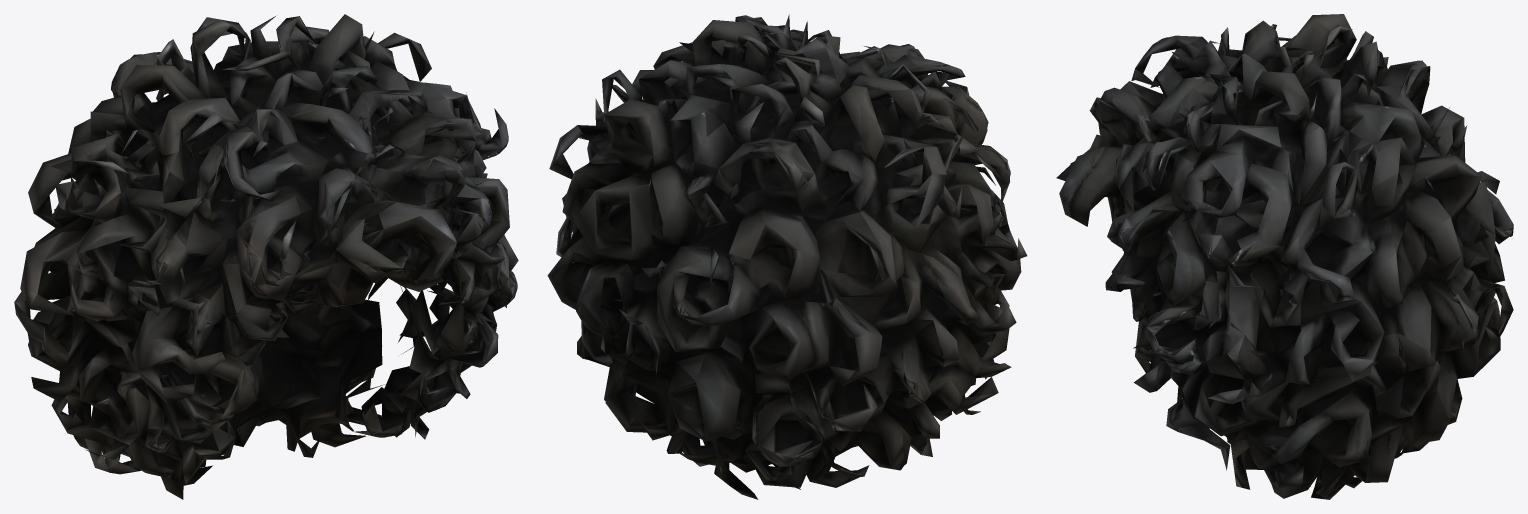
Rendered from pelo_afro.glb.
The picture shows the model from 3 angles, left to right: view 1: azimuth 30°, elevation 25°; view 2: azimuth 150°, elevation 25°; view 3: azimuth 270°, elevation 25°; orthographic projection. The views are drawn at different scales.
Visible parts, largest first — view 1: pelo_afro; view 2: pelo_afro; view 3: pelo_afro.
Part boxes in pixels (x1,y1,x2,y2): pelo_afro: (14, 14, 518, 499); pelo_afro: (547, 14, 1027, 499); pelo_afro: (1056, 14, 1513, 499).
Size of the model in its own units: 0.3281 by 0.3027 by 0.2929.
Materials: 1 (1 with a texture image).
